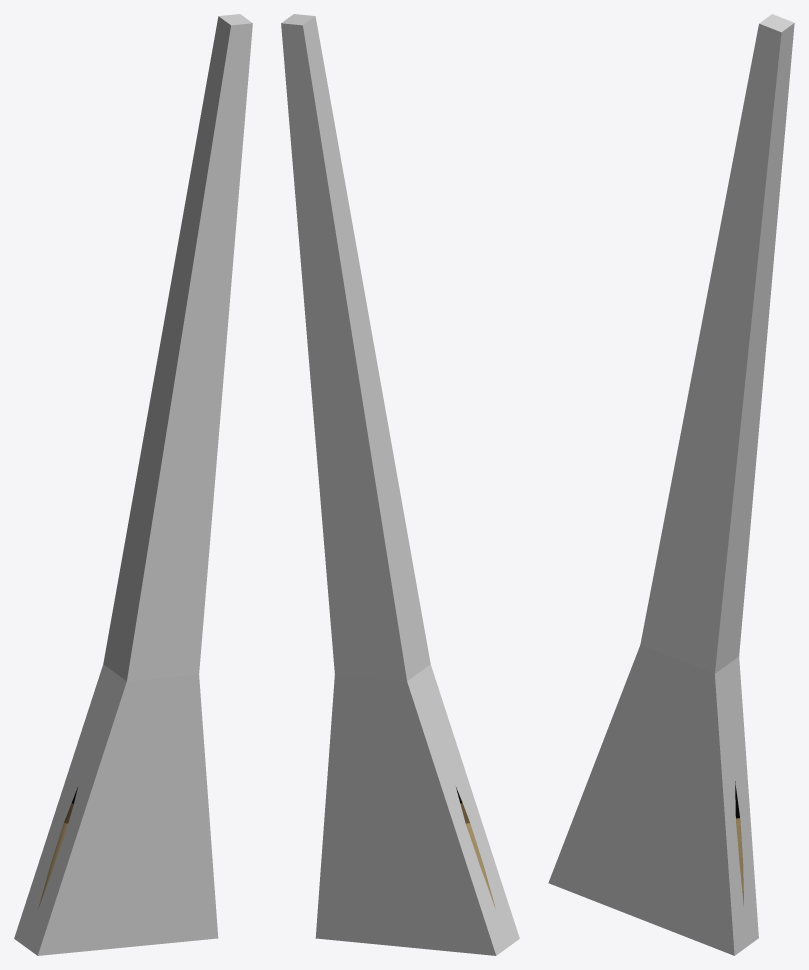
File: mdl_ra3_chhiqha_escoba.fbx
3 views of the same model, side by side, from view 1: azimuth 30°, elevation 25°; view 2: azimuth 150°, elevation 25°; view 3: azimuth 330°, elevation 25° (orthographic). The views are drawn at different scales.
Parts seen in each view (by area): view 1: COL_Chhiqha_Escoba; view 2: COL_Chhiqha_Escoba; view 3: COL_Chhiqha_Escoba.
Boxes of the visible parts, x1,y1,x2,y2 form: COL_Chhiqha_Escoba: (14,14,252,955); COL_Chhiqha_Escoba: (281,14,519,955); COL_Chhiqha_Escoba: (548,14,794,955).
Bounding box in the file's own units: 0.3509 × 1.37 × 0.065.
